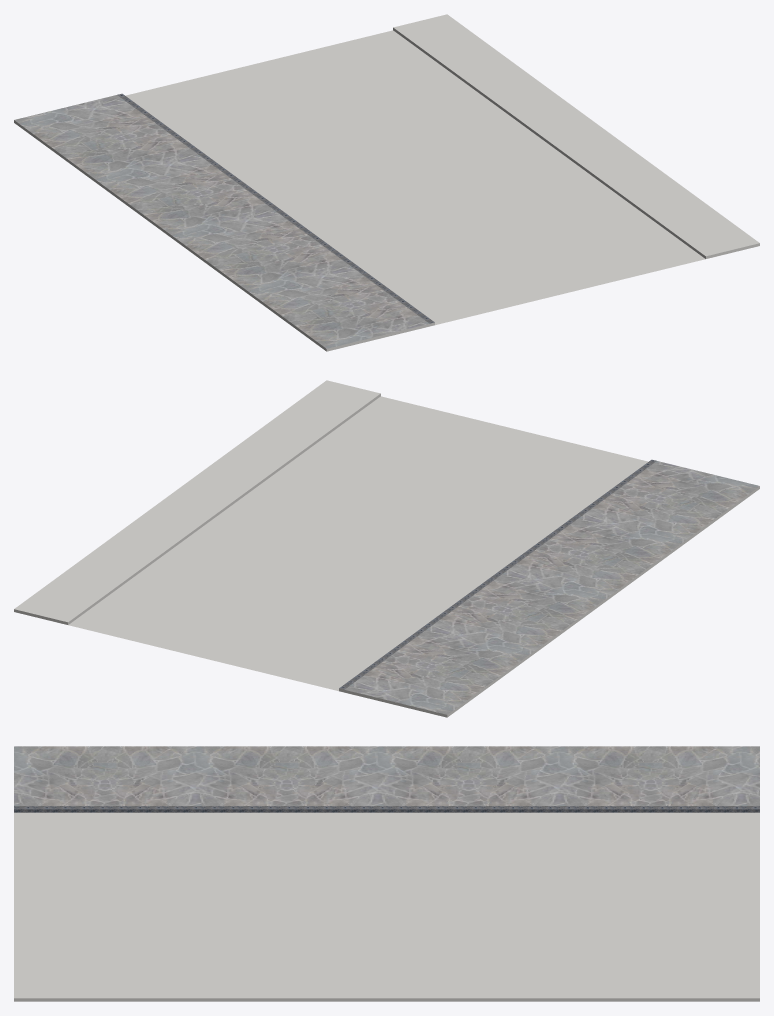
Rendered from Carretera1.fbx.
The picture shows the model from 3 angles, top to bottom: view 1: azimuth 30°, elevation 25°; view 2: azimuth 150°, elevation 25°; view 3: azimuth 270°, elevation 25°; orthographic projection. The views are drawn at different scales.
Visible parts, largest first — view 1: Model; view 2: Model; view 3: Model.
Boxes of the visible parts, x1,y1,x2,y2 form: Model: [14, 14, 759, 351]; Model: [14, 380, 759, 717]; Model: [14, 746, 759, 1001].
Bounding box in the file's own units: 8 × 0.05 × 10.
